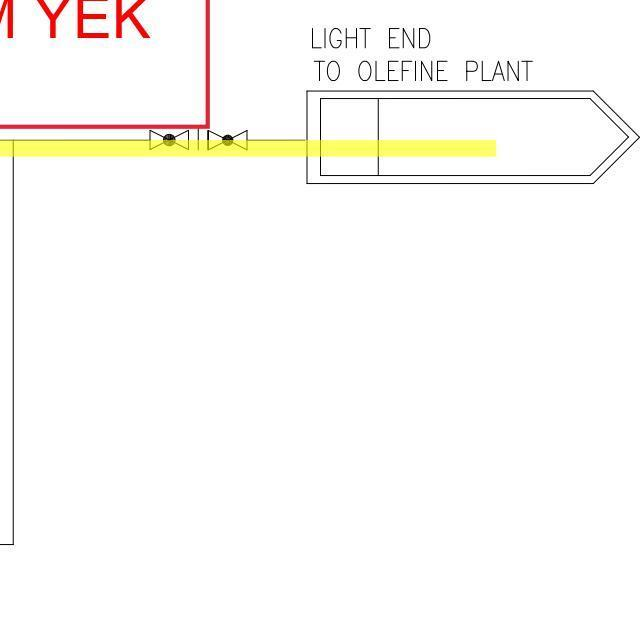BV2: (143, 128, 193, 153), (203, 129, 252, 154)
